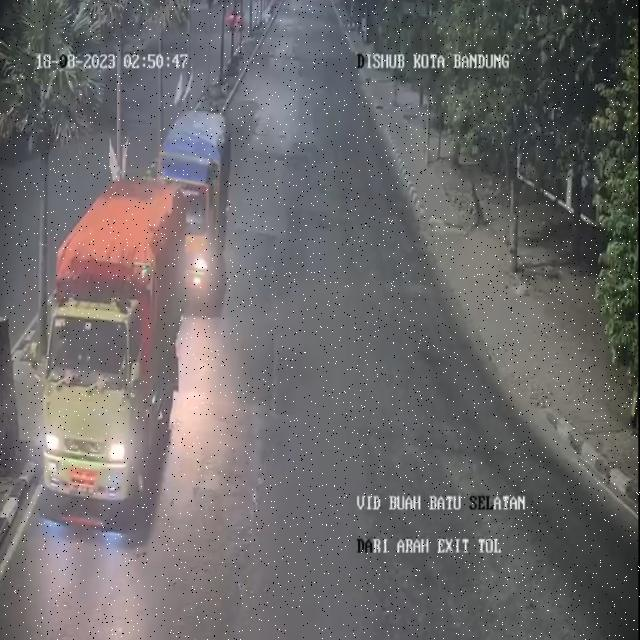truck: (38, 162, 177, 520), (157, 111, 233, 311)
